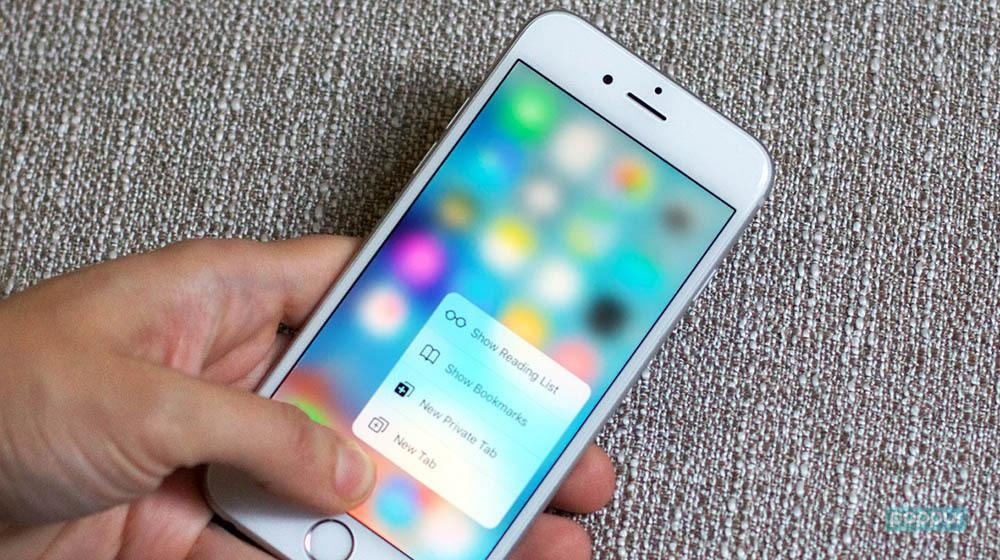phone: (204, 14, 772, 558)
